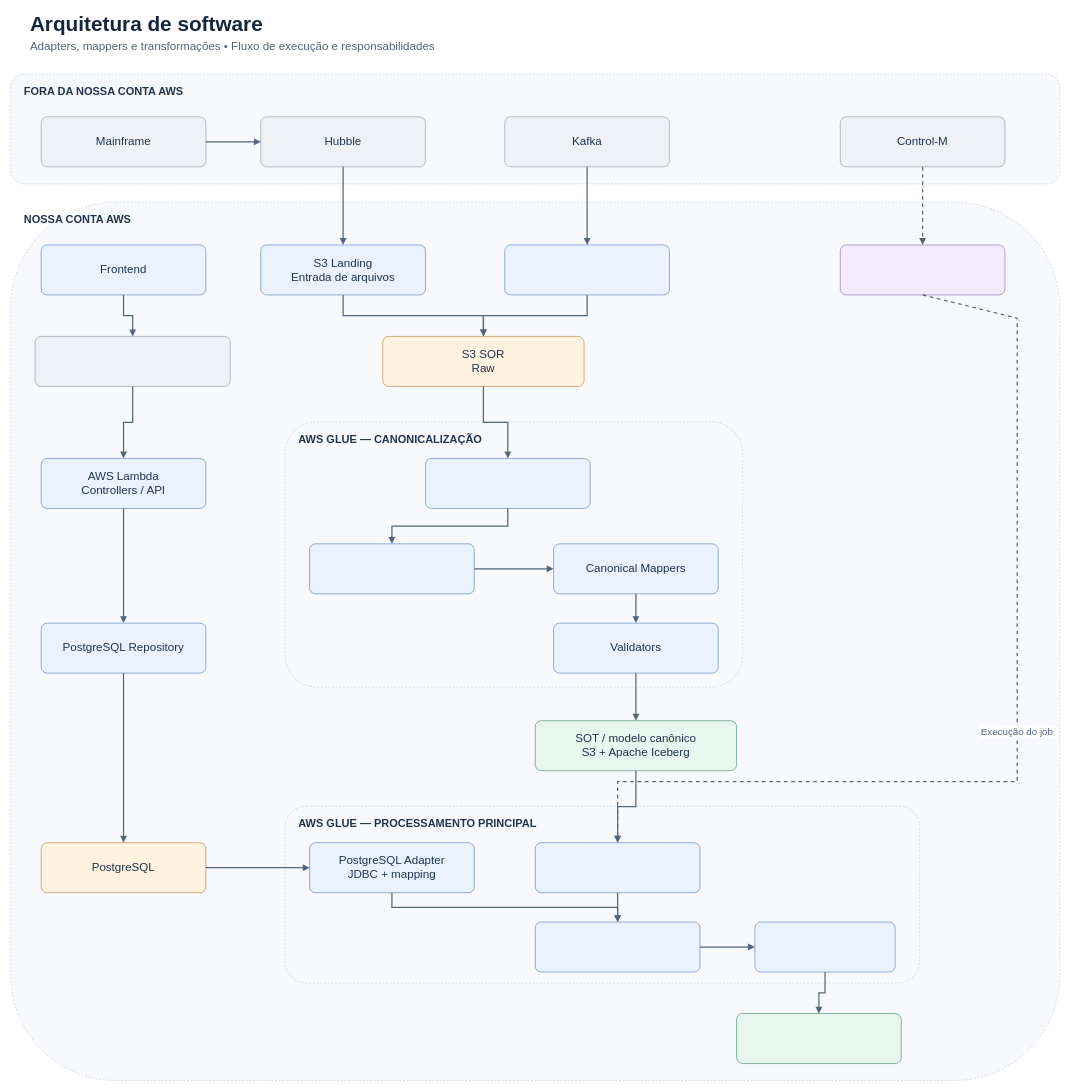
Some shapes in this 1071 by 1091 pixel diagram are drawn without their labels. Here are the shapes that lost their labels. From the top down, the centre of each, then its label:
[586,269]: ECS Fargate Kafka Consumer Adapter
[922,269]: Batch-on-Cloud
[132,361]: API Gateway institucional Fora da nossa conta
[507,483]: Source Readers
[391,568]: Source Adapters
[617,867]: SOT Adapter
[617,946]: Domain Transformations Regras de negócio
[824,946]: Output Adapter
[818,1038]: SPEC S3 + Apache Iceberg
